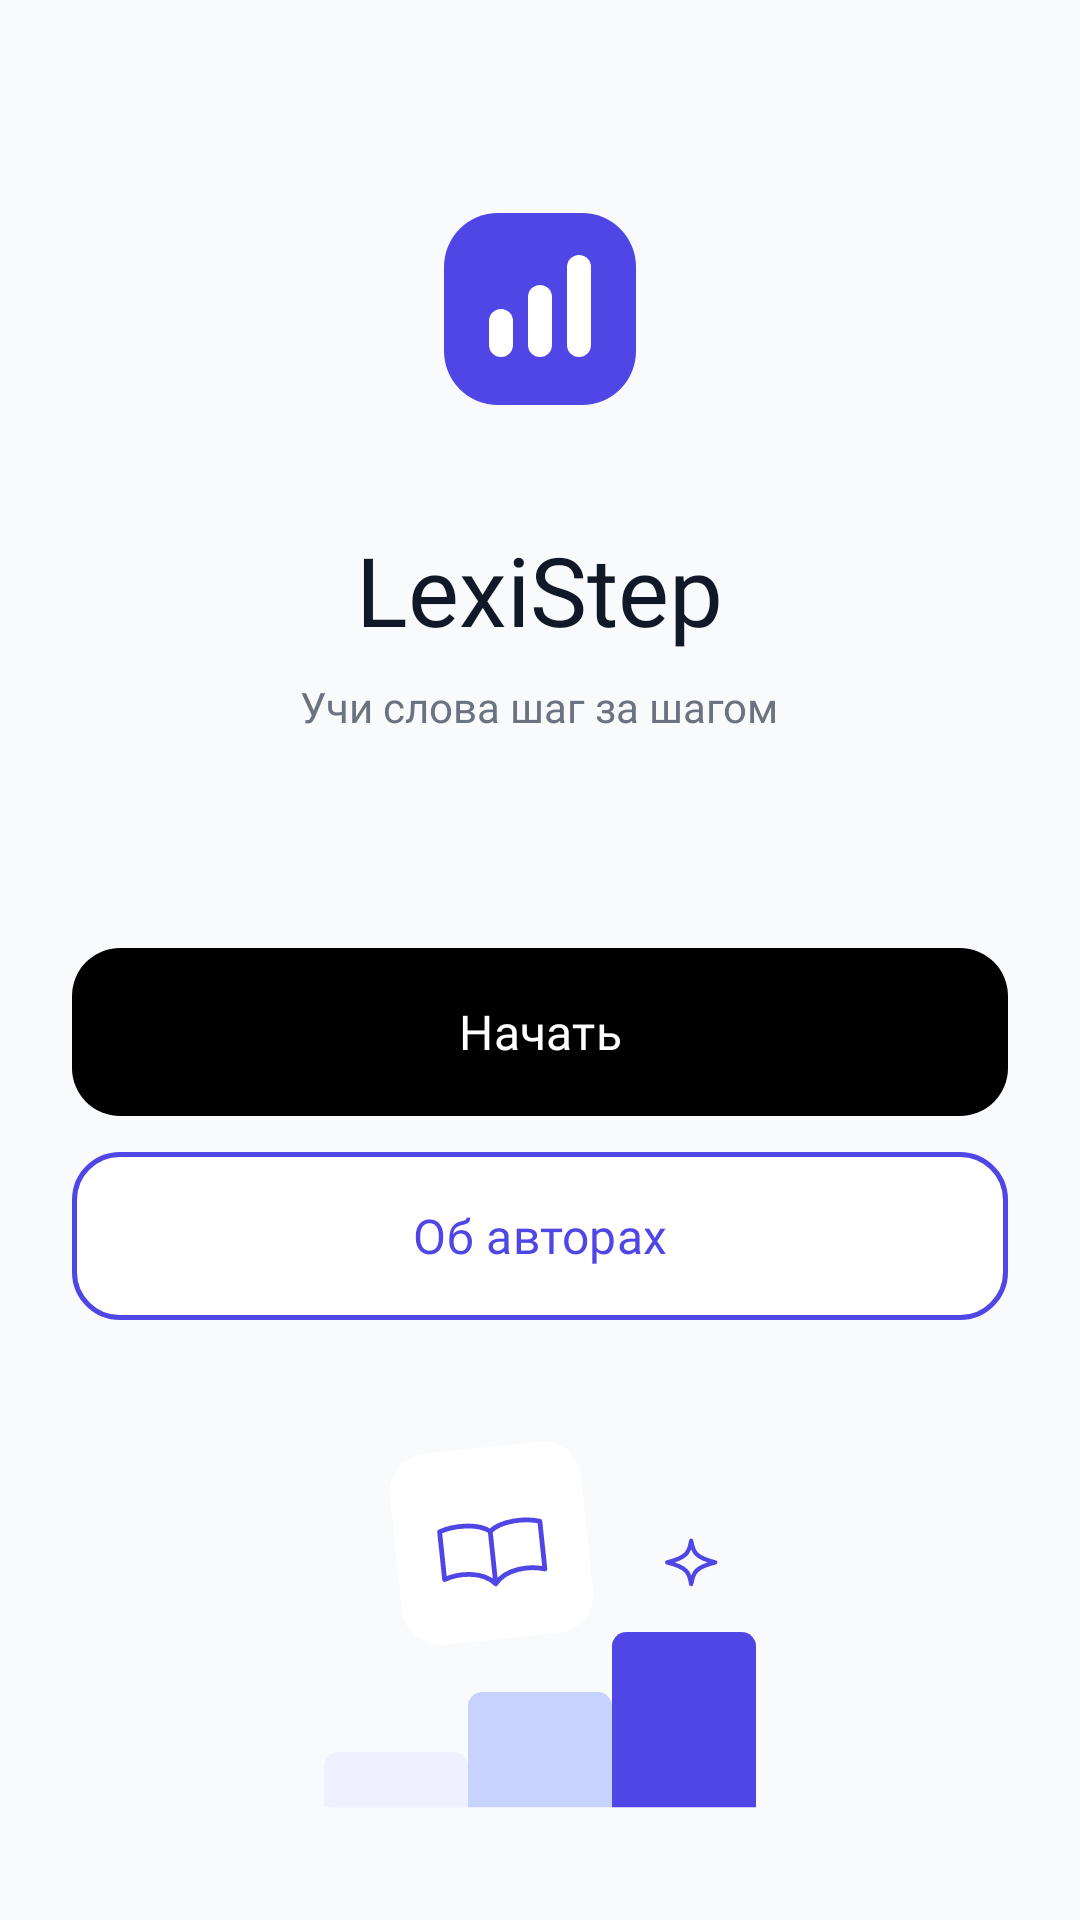

Icons on this 1080px x 1920px Android screen, each with its box as (x1, y1, x2, y2):
home illustration: (437, 1517, 756, 1808)
